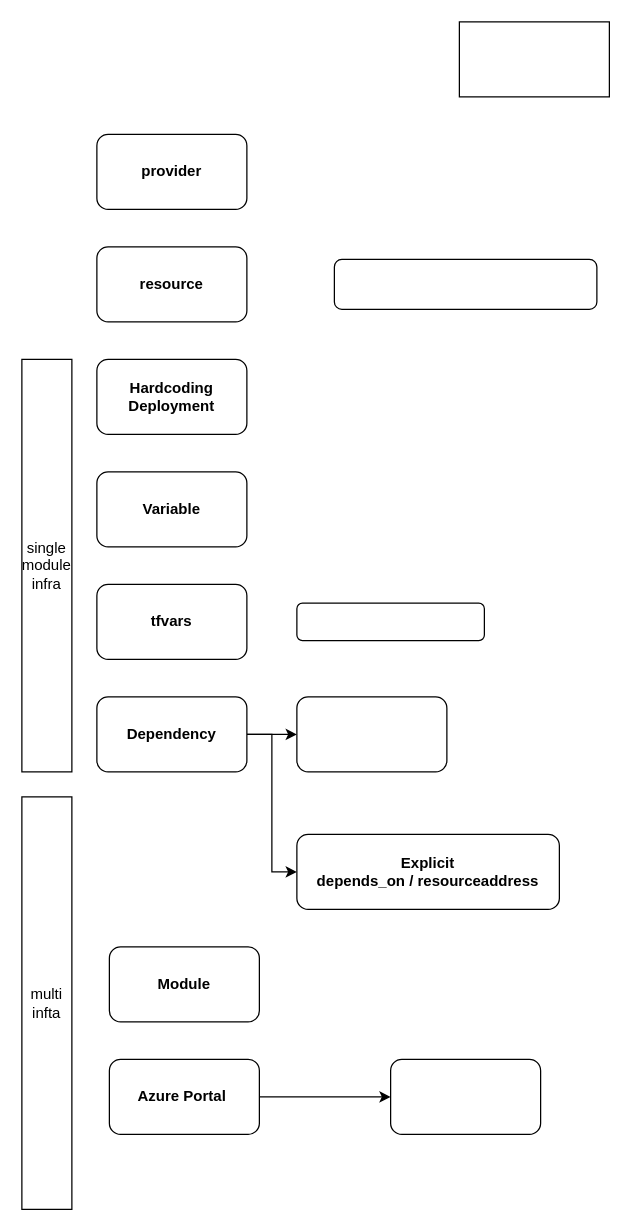
Some shapes in this 631 by 1231 pixel diagram are drawn without their labels. Each missing label, with the centre of its shape:
BLOCKS: point (533, 59)
Hirarchy: point (390, 621)
Implicit resouce_address: point (371, 734)
us block mai kya kya hai: point (465, 283)
Virtual Machine: point (465, 1096)
